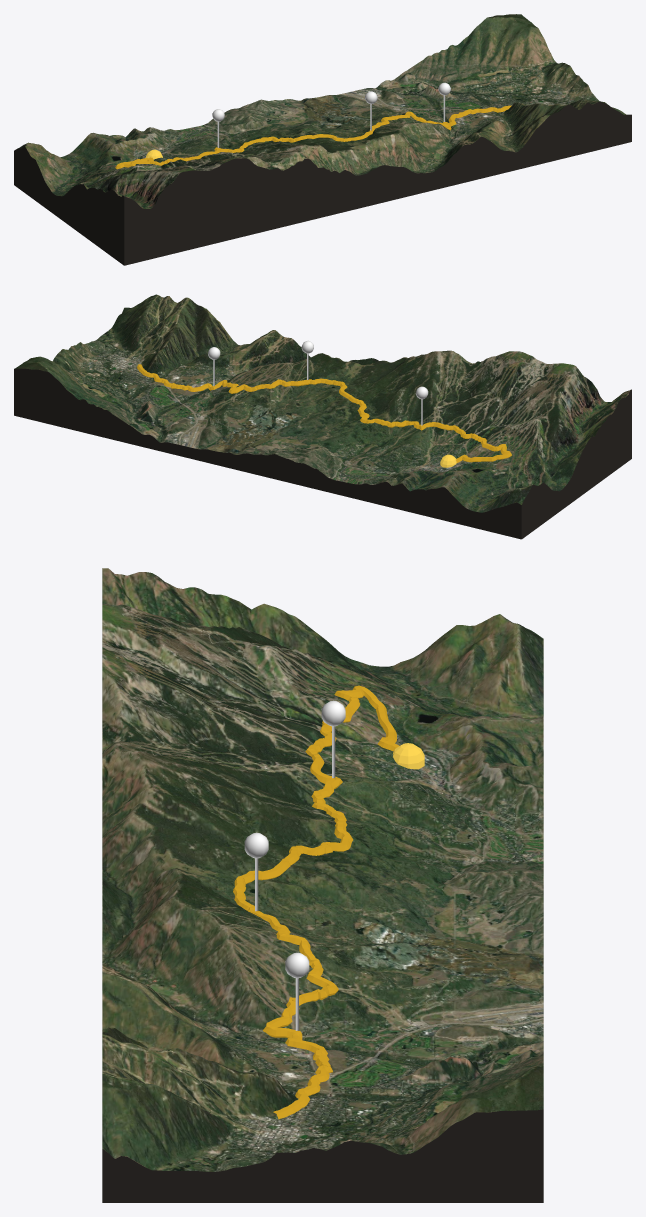
Rendered from course.glb.
3 renders of one model, top to bottom at view 1: azimuth 30°, elevation 25°; view 2: azimuth 150°, elevation 25°; view 3: azimuth 270°, elevation 25°, orthographic. The views are drawn at different scales.
Parts seen in each view (by area): view 1: terrain, course; view 2: terrain, course; view 3: terrain, course.
Boxes of the visible parts, left/top/right/bottom form: terrain: left=14, top=14, right=631, bottom=265; course: left=115, top=105, right=511, bottom=169; terrain: left=14, top=294, right=631, bottom=539; course: left=137, top=364, right=511, bottom=462; terrain: left=102, top=568, right=543, bottom=1202; course: left=233, top=685, right=399, bottom=1119.
Size of the model in its own units: 0.42 by 0.0633 by 0.158.
5 materials, 1 textured.
